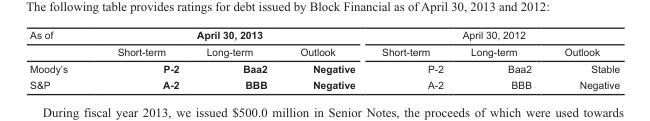table: (29, 29, 619, 90)
table column: (91, 29, 192, 90), (192, 29, 283, 90), (456, 29, 547, 90), (367, 29, 456, 90), (283, 29, 367, 90), (547, 29, 619, 90), (29, 29, 91, 90)
table column header: (29, 29, 619, 59)
table row: (29, 59, 619, 76), (29, 43, 619, 59), (29, 29, 619, 43), (29, 76, 619, 90)
table spanning cell: (91, 29, 367, 43), (367, 29, 619, 43), (29, 29, 91, 59)
